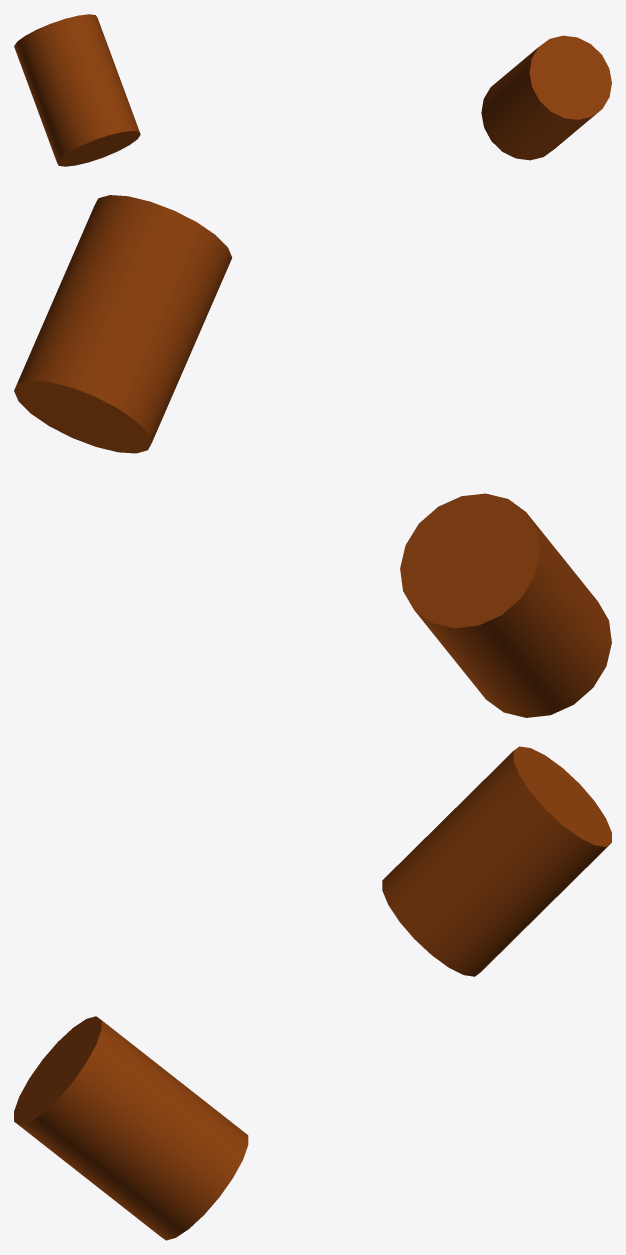
The picture shows the model from 3 angles, top to bottom: view 1: azimuth 30°, elevation 25°; view 2: azimuth 150°, elevation 25°; view 3: azimuth 270°, elevation 25°; orthographic projection. The views are drawn at different scales.
Visible parts, largest first — view 1: Cylinder001, Cylinder002; view 2: Cylinder002, Cylinder001; view 3: Cylinder001, Cylinder002.
Part boxes in pixels (x1,y1,x2,y2): Cylinder001: (14,14,140,166); Cylinder002: (481,35,611,160); Cylinder002: (14,195,232,453); Cylinder001: (400,493,611,717); Cylinder001: (382,746,611,976); Cylinder002: (14,1016,248,1240).
Size of the model in its own units: 188 by 150 by 59.88.
